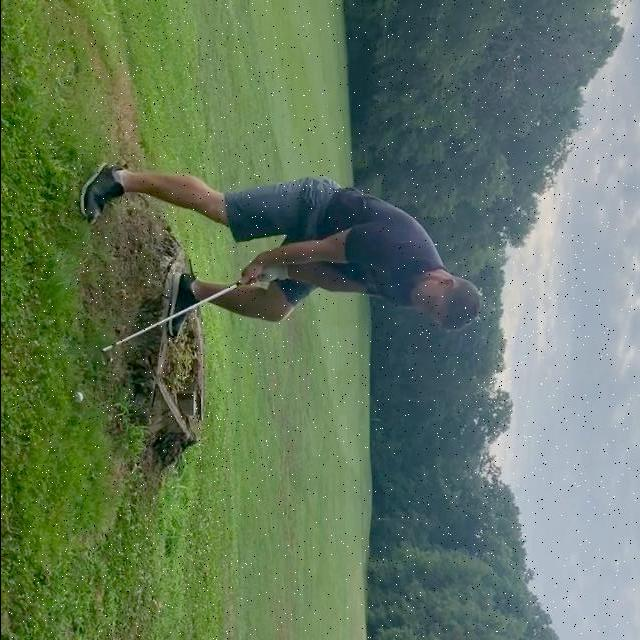golf ball: (74, 391, 84, 403)
golf club-handle: (98, 278, 249, 369)
golf club-head: (100, 350, 113, 365)
